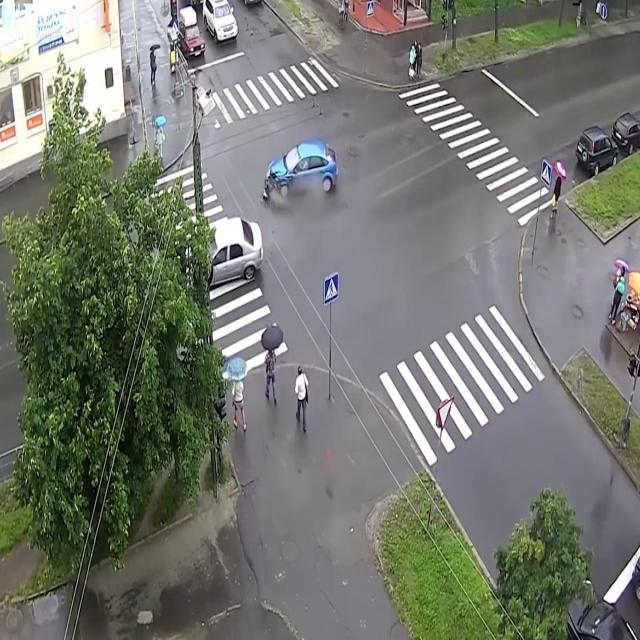accident: (260, 132, 340, 212)
